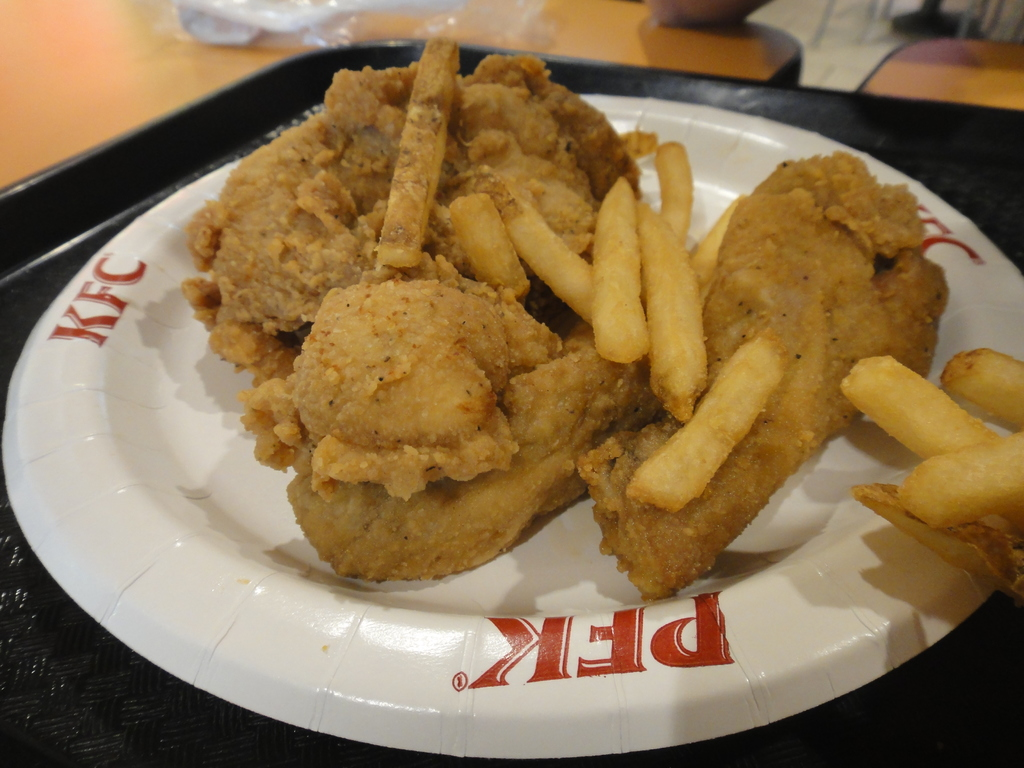French fries: (444, 136, 785, 502), (829, 336, 1023, 615), (377, 27, 461, 261)
